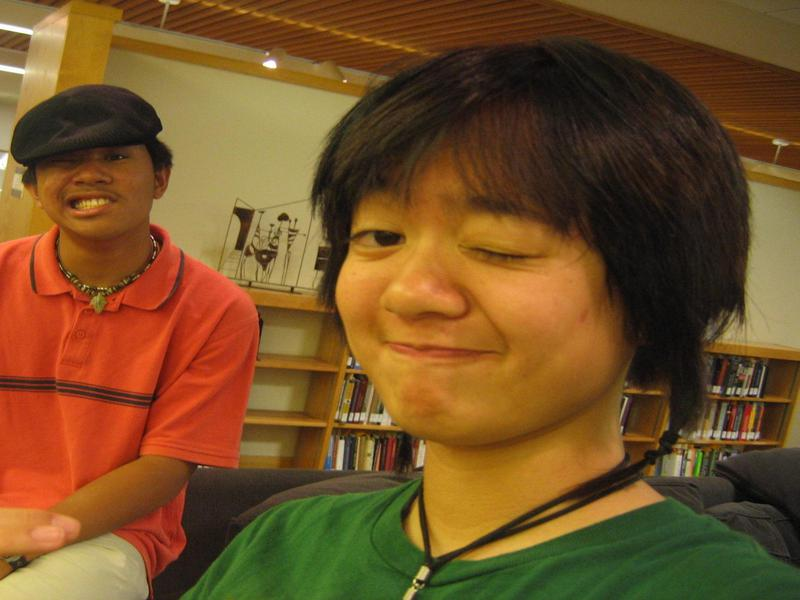person: (186, 36, 798, 600), (1, 83, 261, 600)
